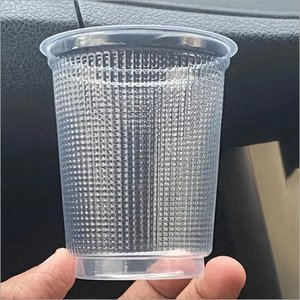plastic_glass: (35, 23, 240, 283)
